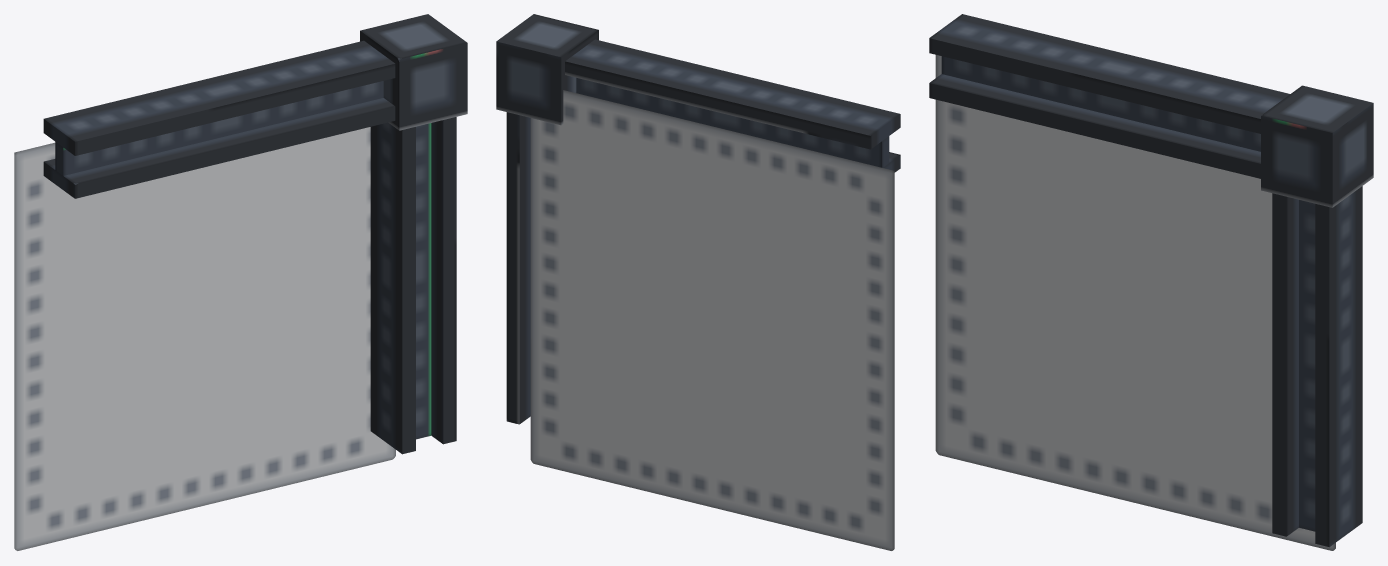
File: GirderArchSegment.fbx
The picture shows the model from 3 angles, left to right: view 1: azimuth 30°, elevation 25°; view 2: azimuth 150°, elevation 25°; view 3: azimuth 330°, elevation 25°; orthographic projection. The views are drawn at different scales.
Parts seen in each view (by area): view 1: Wall, Right_1, Left, Left_1, GirderSeal, Right, Middle_1, Middle; view 2: Wall, Right_1, Right, GirderSeal, Middle_1; view 3: Wall, Right, Right_1, GirderSeal, Left, Left_1, Middle_1, Middle.
Part boxes in pixels (bbox=[...]): Wall: bbox=[14, 127, 395, 550]; Right_1: bbox=[43, 40, 399, 155]; Left: bbox=[370, 122, 415, 454]; Left_1: bbox=[43, 98, 395, 198]; GirderSeal: bbox=[360, 14, 467, 130]; Right: bbox=[431, 117, 456, 444]; Middle_1: bbox=[55, 81, 383, 175]; Middle: bbox=[416, 123, 431, 439]; Wall: bbox=[530, 90, 894, 550]; Right_1: bbox=[565, 39, 900, 149]; Right: bbox=[506, 112, 530, 424]; GirderSeal: bbox=[496, 14, 598, 125]; Middle_1: bbox=[576, 78, 889, 167]; Wall: bbox=[935, 55, 1335, 550]; Right: bbox=[1315, 186, 1362, 547]; Right_1: bbox=[929, 14, 1289, 133]; GirderSeal: bbox=[1261, 85, 1373, 207]; Left: bbox=[1272, 193, 1298, 536]; Left_1: bbox=[929, 74, 1260, 178]; Middle_1: bbox=[941, 56, 1260, 151]; Middle: bbox=[1299, 200, 1315, 531].
Size of the model in its own units: 381 by 381 by 62.5.
1 material, 1 textured.
